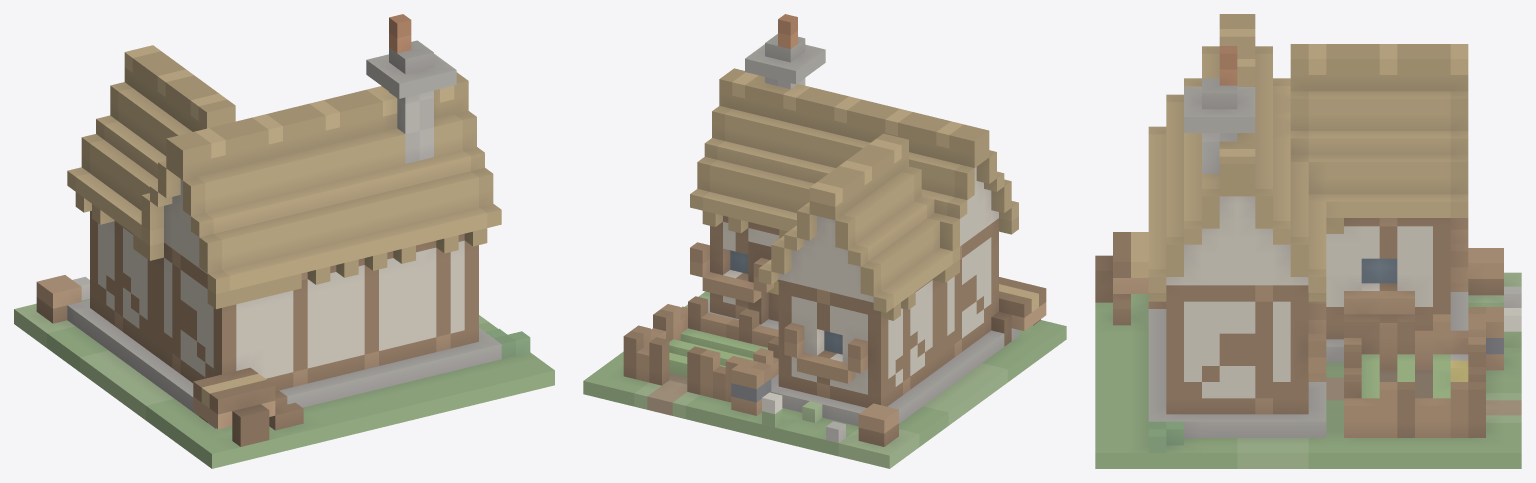
The model's file is house_settlers.v2.glb.
3 views of the same model, side by side, from view 1: azimuth 30°, elevation 25°; view 2: azimuth 150°, elevation 25°; view 3: azimuth 270°, elevation 25° (orthographic). The views are drawn at different scales.
Visible parts, largest first — view 1: house_settlers; view 2: house_settlers; view 3: house_settlers.
Boxes of the visible parts, <box> form: house_settlers: <box>14,14,554,468</box>; house_settlers: <box>583,14,1066,468</box>; house_settlers: <box>1095,14,1521,468</box>.
Bounding box in the file's own units: 3 × 2.88 × 3.
